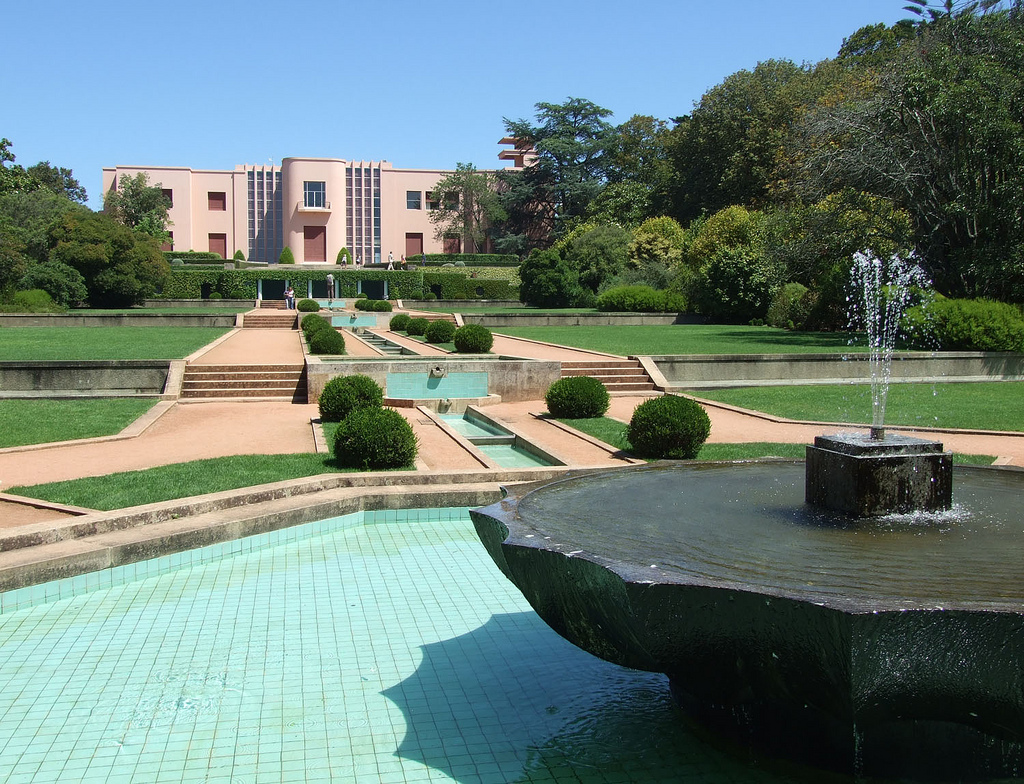serralves: (98, 130, 559, 268)
